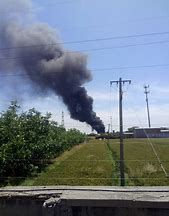smoke: (3, 18, 105, 132)
